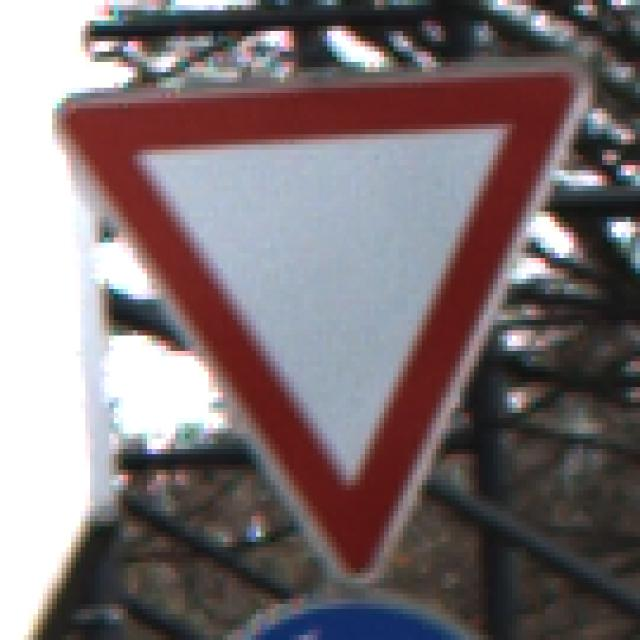Give Way: (53, 53, 589, 584)
